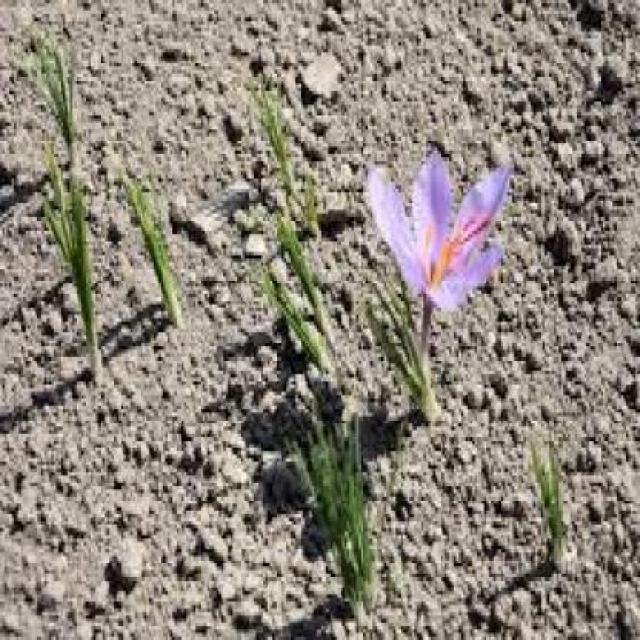Flower: (370, 148, 512, 326)
stigma: (422, 210, 492, 298)
